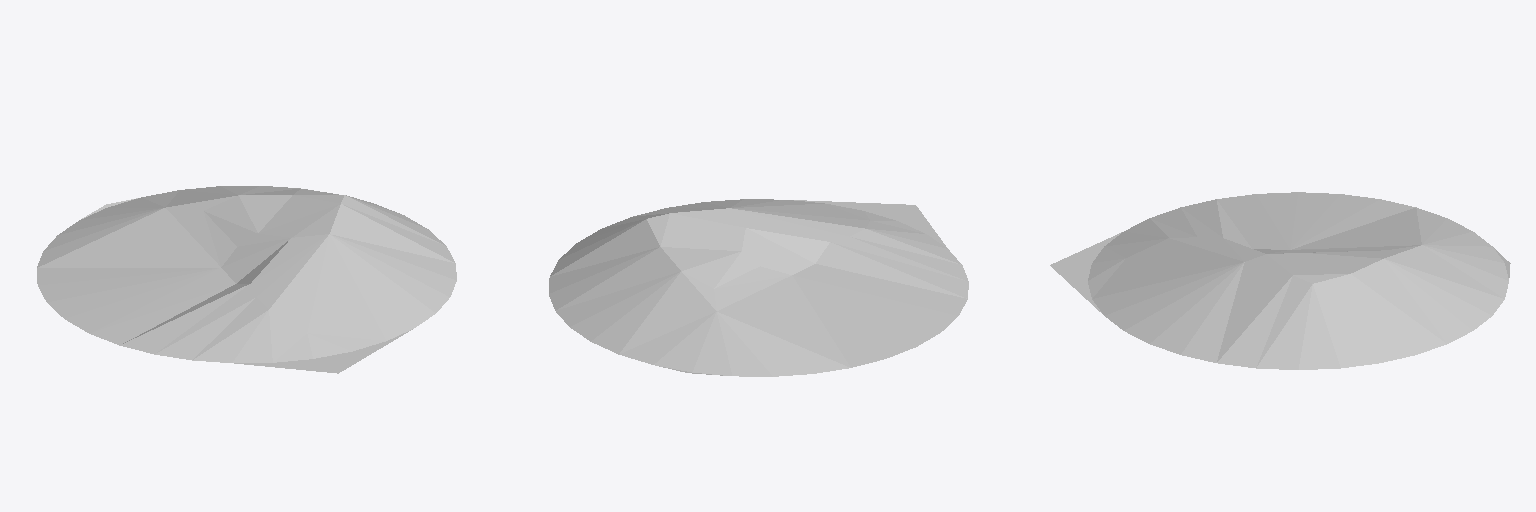
The model's file is island.obj.
3 renders of one model, left to right at view 1: azimuth 30°, elevation 25°; view 2: azimuth 150°, elevation 25°; view 3: azimuth 270°, elevation 25°, orthographic.
Parts seen in each view (by area): view 1: Terrain001; view 2: Terrain001; view 3: Terrain001.
Boxes of the visible parts, x1=… form: Terrain001: x1=37, y1=186, x2=456, y2=373; Terrain001: x1=549, y1=199, x2=968, y2=376; Terrain001: x1=1050, y1=192, x2=1510, y2=369.
Bounding box in the file's own units: 16.17 × 2.14 × 17.68.